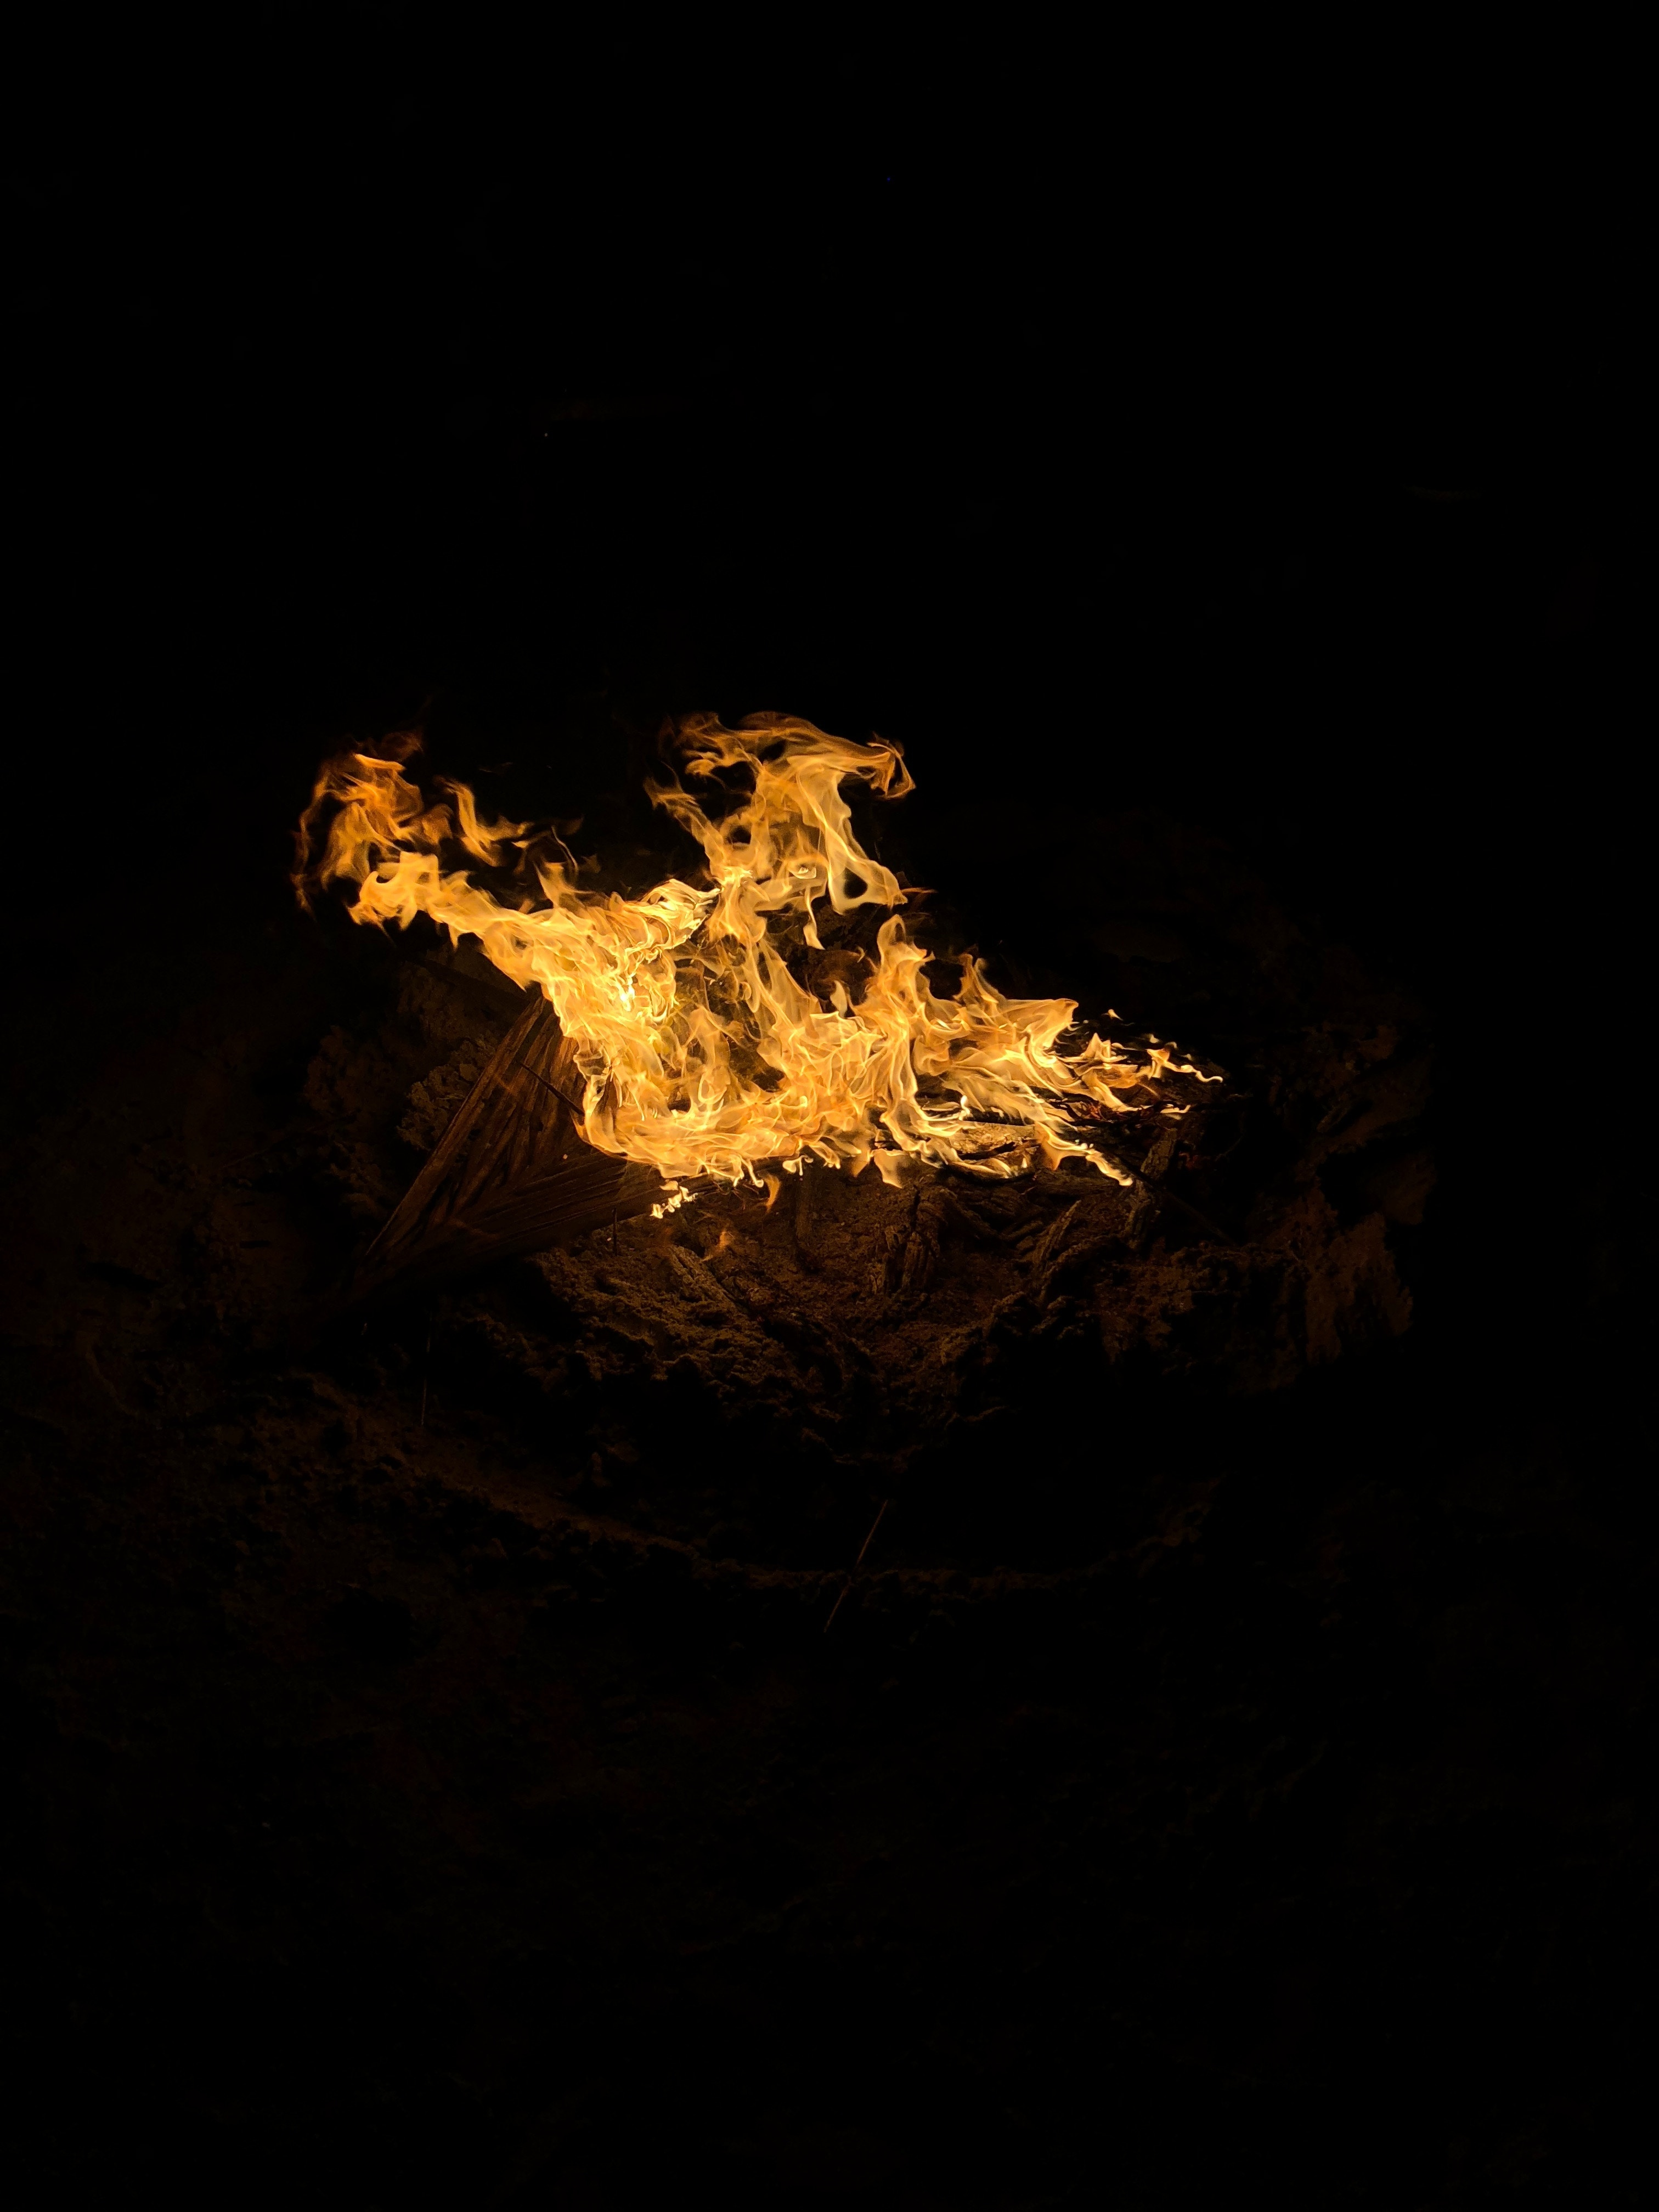fire: (291, 702, 1208, 1212)
